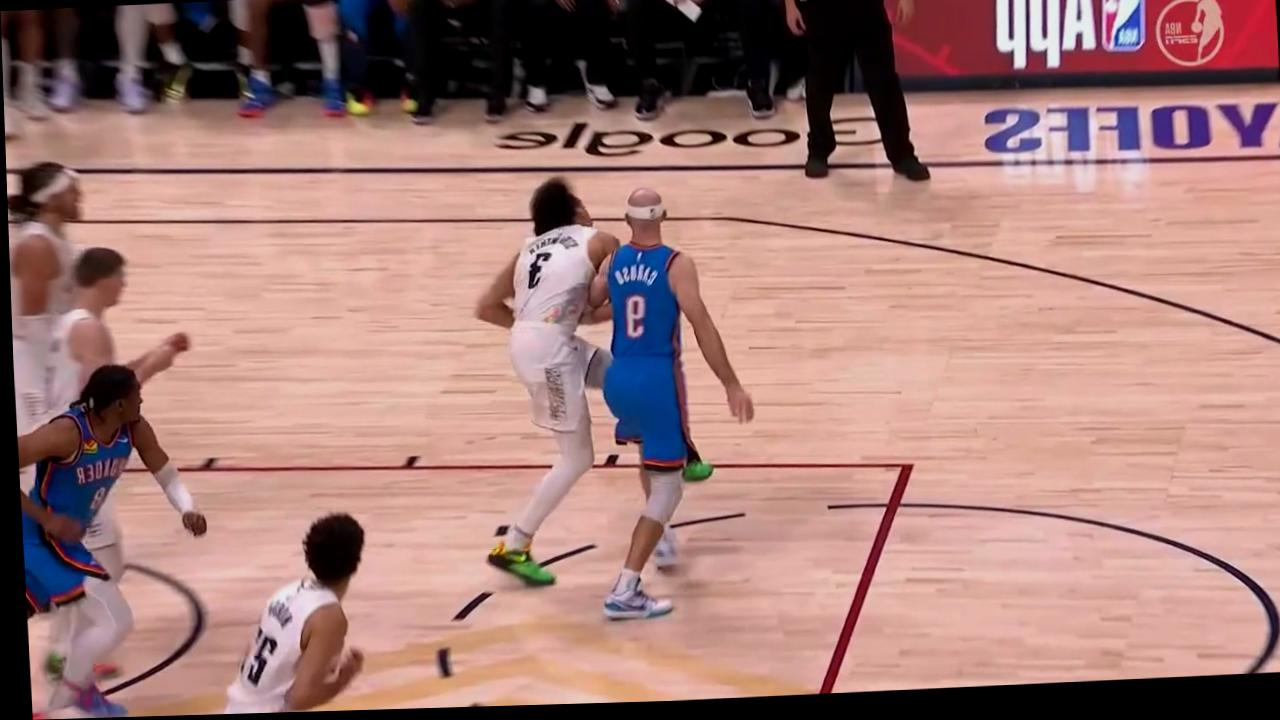foul: (438, 150, 779, 660)
